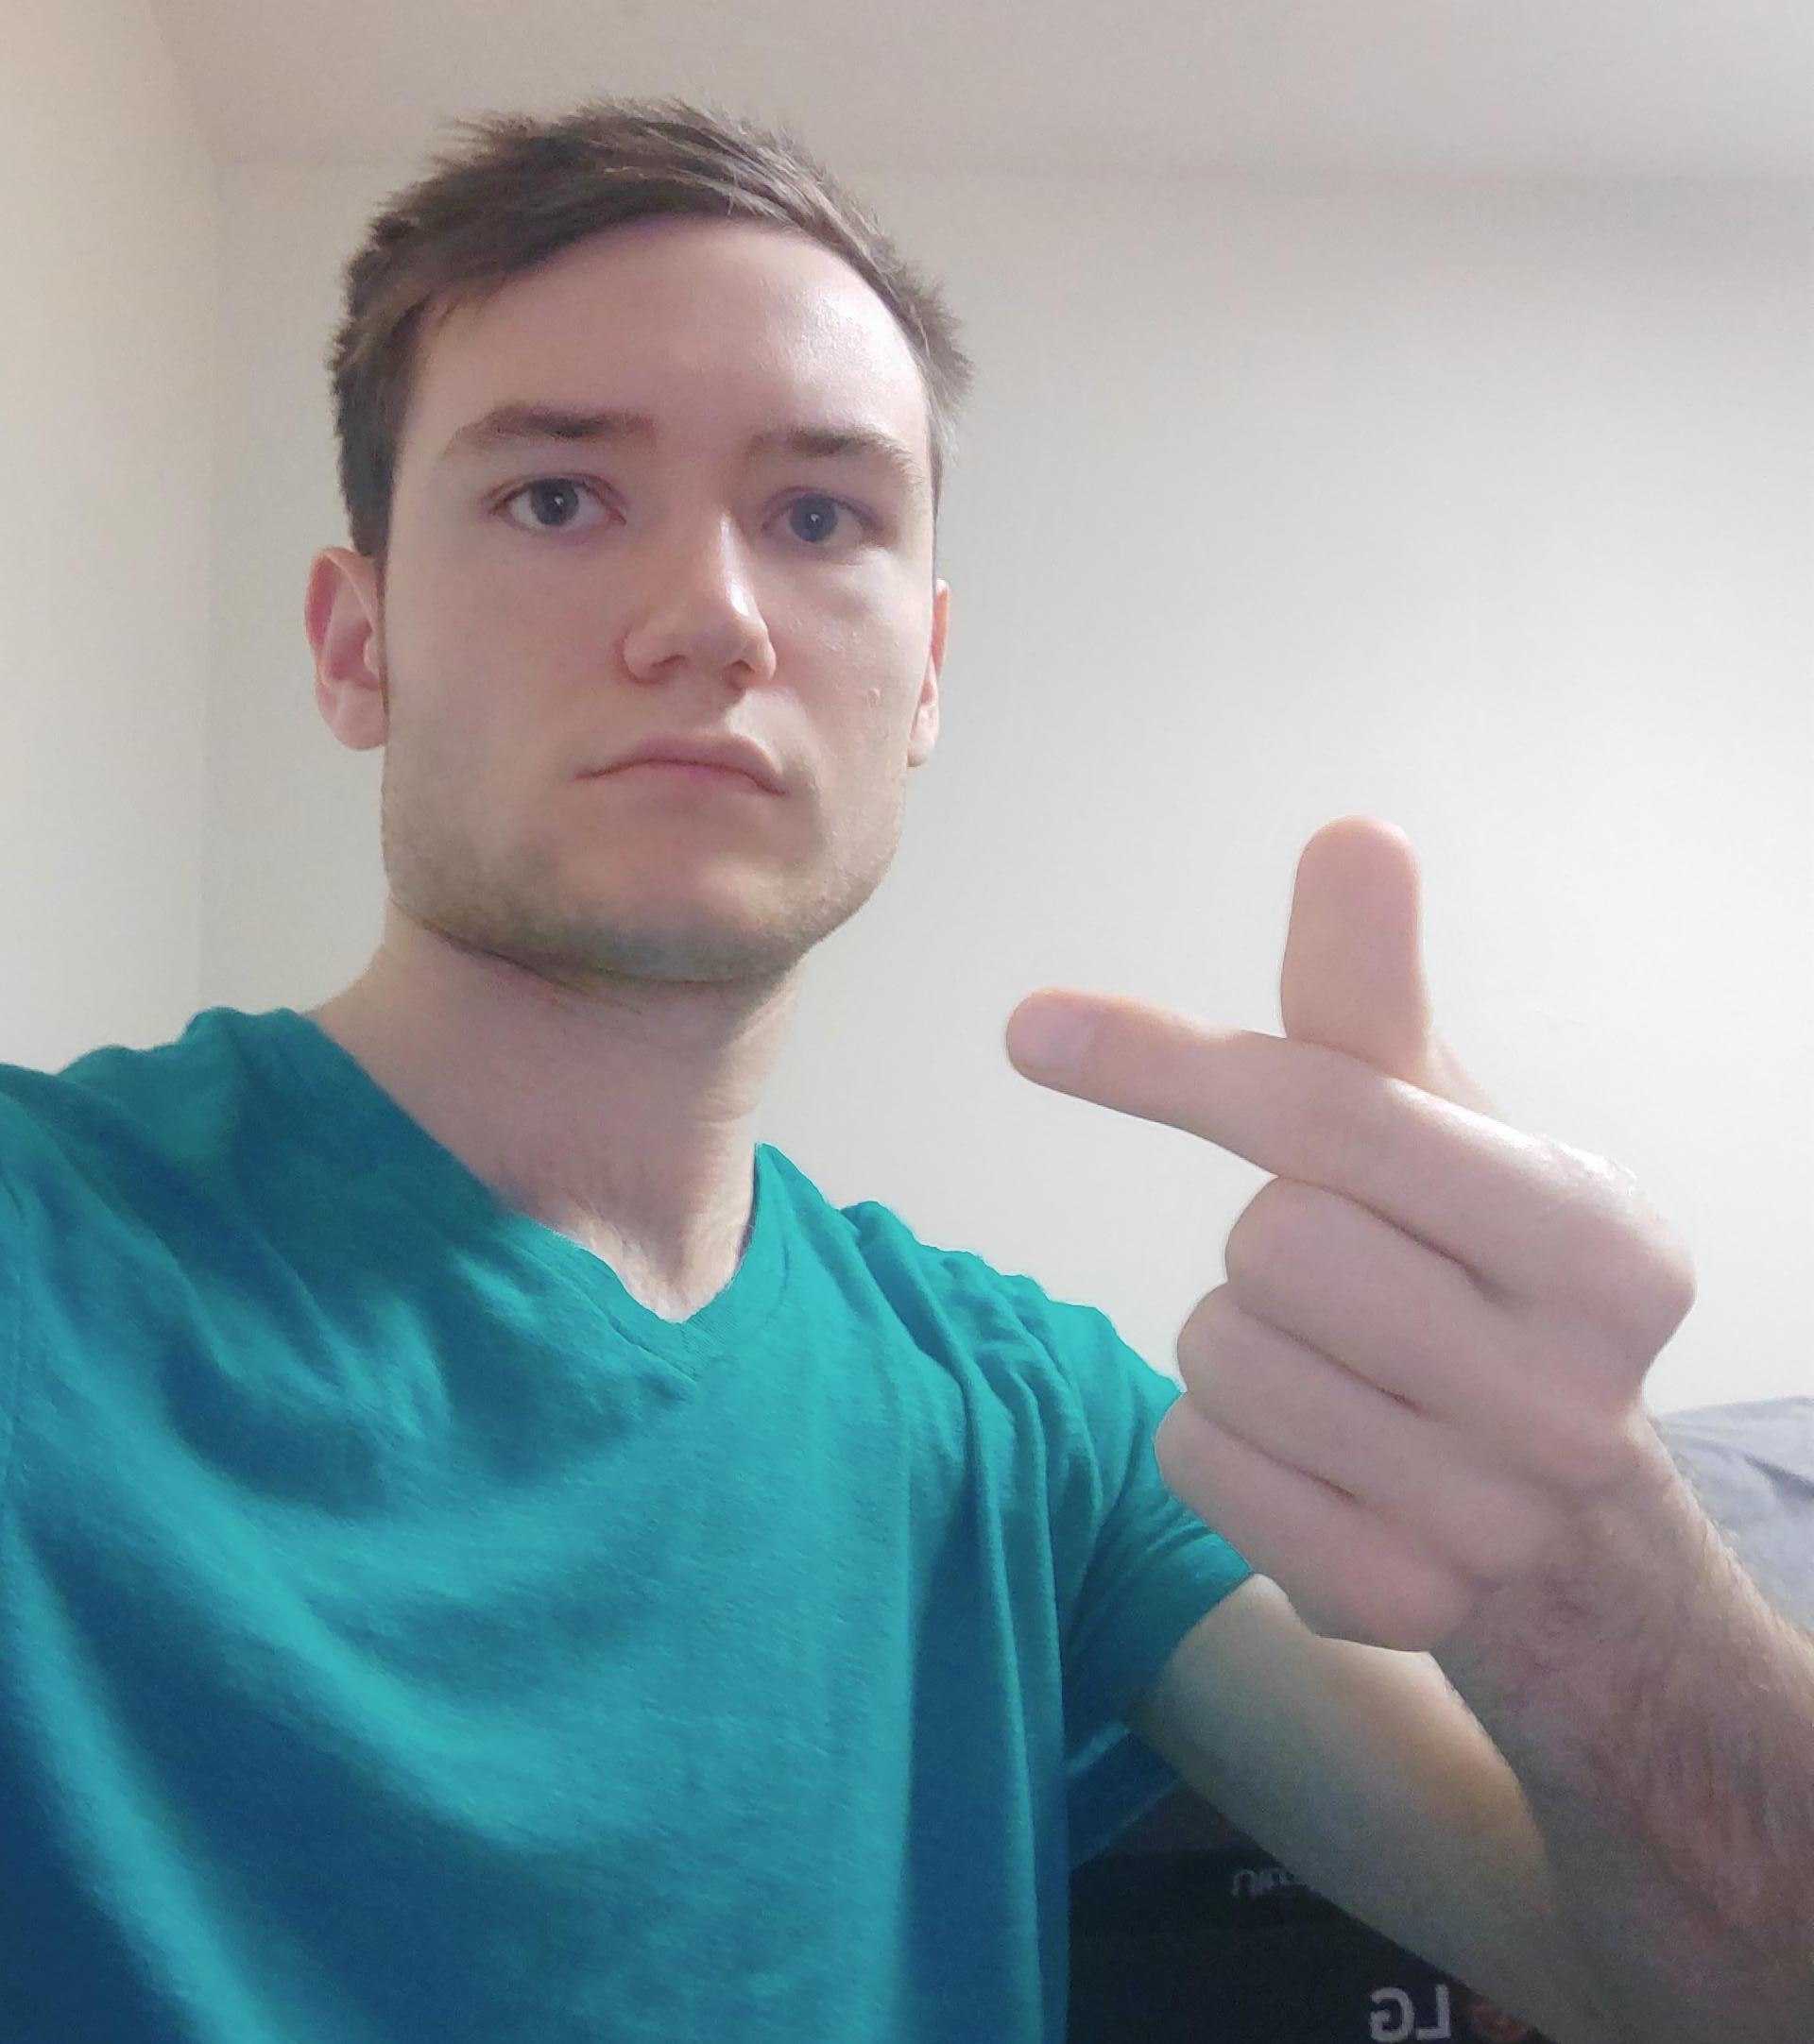heart gesture: (996, 800, 1443, 1178)
